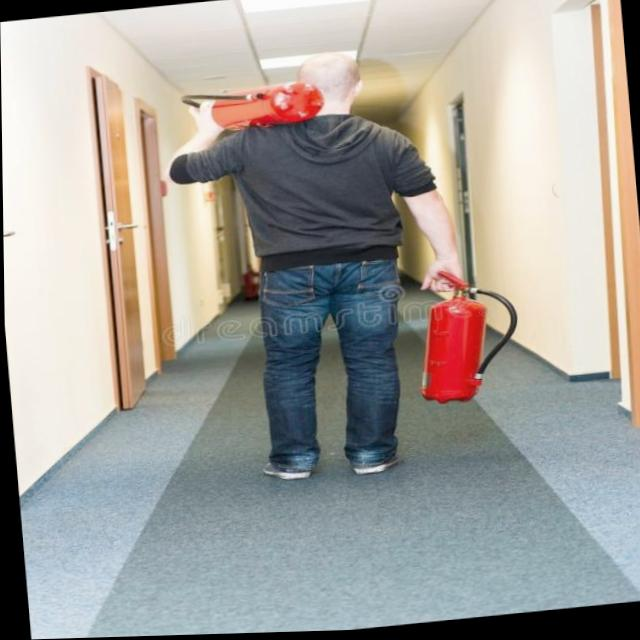FireExtinguisher: (401, 251, 530, 414), (162, 75, 331, 142)
